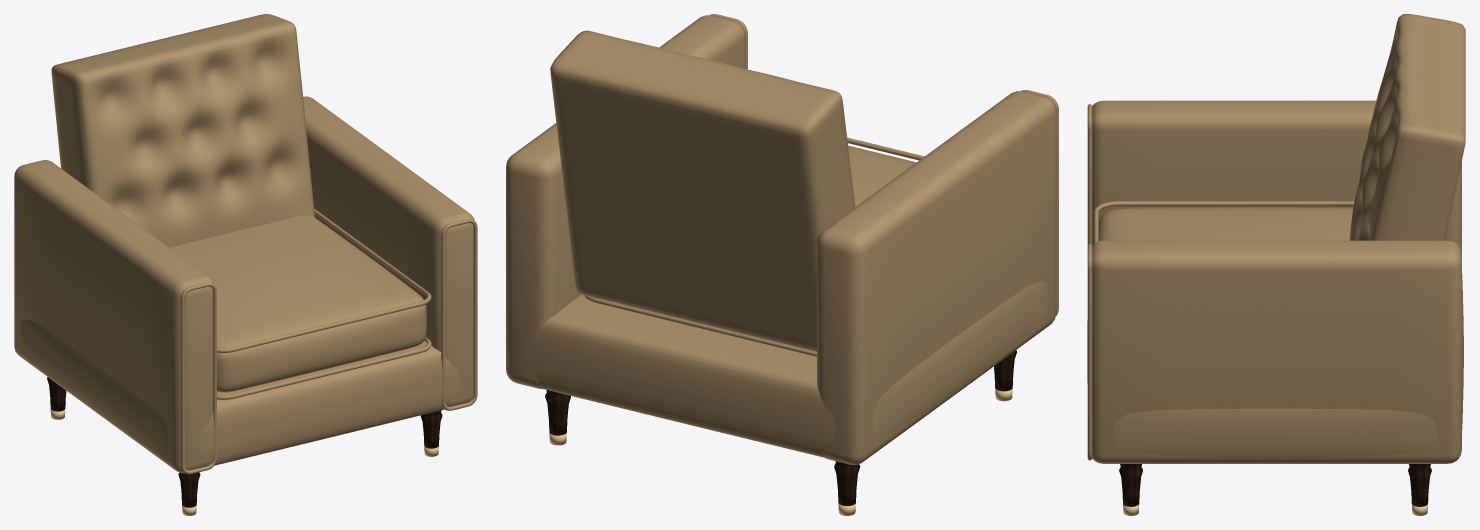
File: sillon-alba.glb
3 renders of one model, left to right at view 1: azimuth 30°, elevation 25°; view 2: azimuth 150°, elevation 25°; view 3: azimuth 270°, elevation 25°, orthographic. The views are drawn at different scales.
Visible parts, largest first — view 1: alba_respaldo, alba_brazo_-1, alba_cojin, alba_base, alba_brazo_1, alba_vivo_brazo_1, alba_vivo_brazo_-1, alba_vivo_cojin_arriba, alba_vivo_cojin_abajo, alba_pata_1_-1, alba_pata_-1_-1; view 2: alba_respaldo, alba_brazo_-1, alba_base, alba_brazo_1, alba_cojin, alba_vivo_cojin_abajo, alba_pata_1_1, alba_pata_-1_1, alba_vivo_brazo_-1, alba_pata_-1_-1; view 3: alba_brazo_1, alba_brazo_-1, alba_respaldo, alba_base, alba_cojin, alba_vivo_cojin_arriba, alba_vivo_brazo_1, alba_vivo_brazo_-1, alba_pata_1_1, alba_pata_1_-1.
Boxes of the visible parts, x1,y1,x2,y2 form: alba_respaldo: [51, 14, 314, 247]; alba_brazo_-1: [14, 160, 213, 473]; alba_cojin: [169, 215, 426, 392]; alba_base: [20, 319, 460, 465]; alba_brazo_1: [303, 96, 474, 406]; alba_vivo_brazo_1: [441, 219, 477, 410]; alba_vivo_brazo_-1: [180, 282, 216, 474]; alba_vivo_cojin_arriba: [217, 209, 431, 352]; alba_vivo_cojin_abajo: [217, 337, 431, 399]; alba_pata_1_-1: [420, 410, 442, 448]; alba_pata_-1_-1: [178, 472, 200, 507]; alba_respaldo: [550, 30, 855, 352]; alba_brazo_-1: [817, 91, 1055, 464]; alba_base: [523, 281, 1048, 457]; alba_brazo_1: [506, 15, 745, 389]; alba_cojin: [848, 145, 916, 206]; alba_vivo_cojin_abajo: [584, 295, 816, 356]; alba_pata_1_1: [545, 390, 570, 435]; alba_pata_-1_1: [834, 461, 860, 505]; alba_vivo_brazo_-1: [1020, 90, 1058, 315]; alba_pata_-1_-1: [994, 350, 1016, 391]; alba_brazo_1: [1092, 240, 1461, 463]; alba_brazo_-1: [1092, 100, 1461, 253]; alba_respaldo: [1349, 14, 1465, 240]; alba_base: [1087, 274, 1463, 462]; alba_cojin: [1098, 207, 1353, 240]; alba_vivo_cojin_arriba: [1093, 201, 1354, 243]; alba_vivo_brazo_1: [1087, 244, 1092, 460]; alba_vivo_brazo_-1: [1087, 104, 1092, 245]; alba_pata_1_1: [1408, 464, 1431, 506]; alba_pata_1_-1: [1119, 464, 1142, 506].
Size of the model in its own units: 0.8288 by 0.8937 by 0.8129.
Materials: 3 (2 with a texture image).
